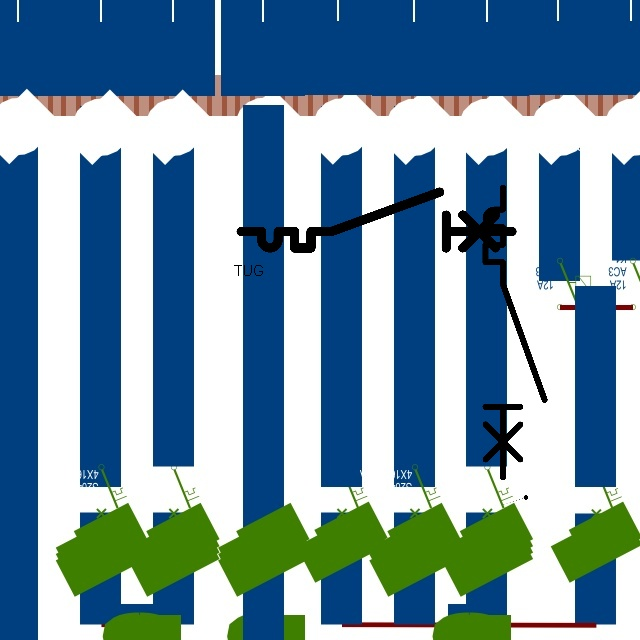interruptor_termomagnetico: (478, 180, 552, 484), (234, 185, 519, 255)
